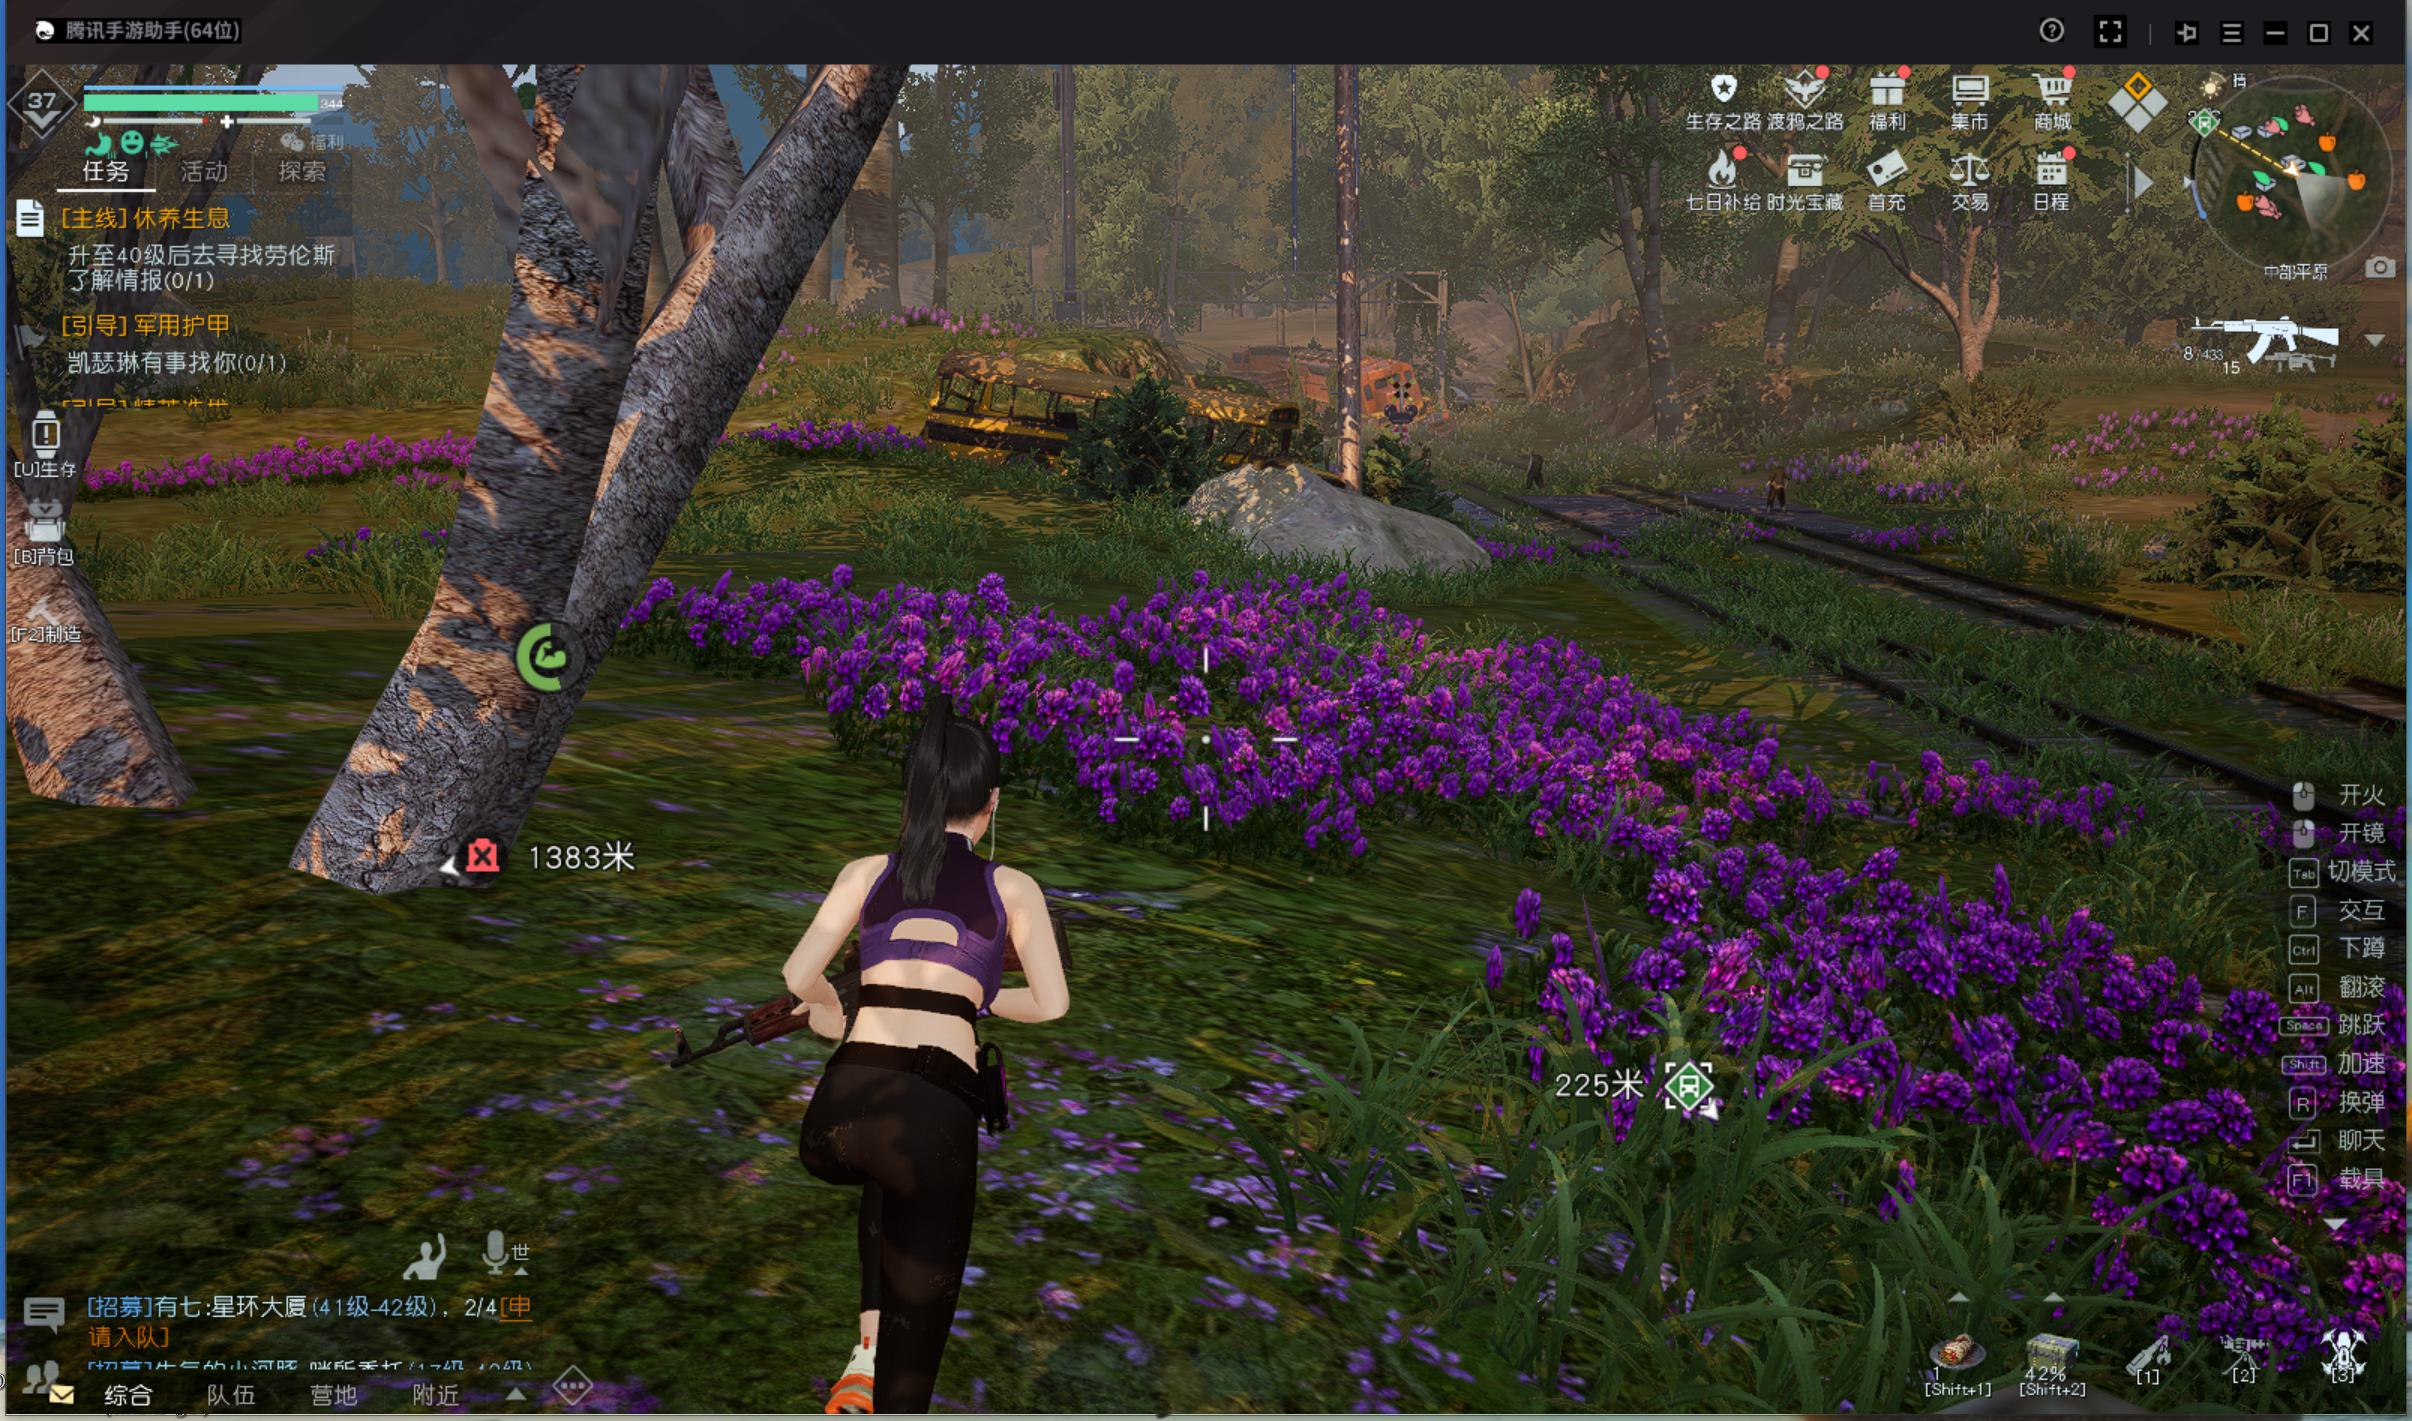tree: (1629, 269, 1691, 465), (1756, 254, 1806, 455), (925, 210, 961, 316)
